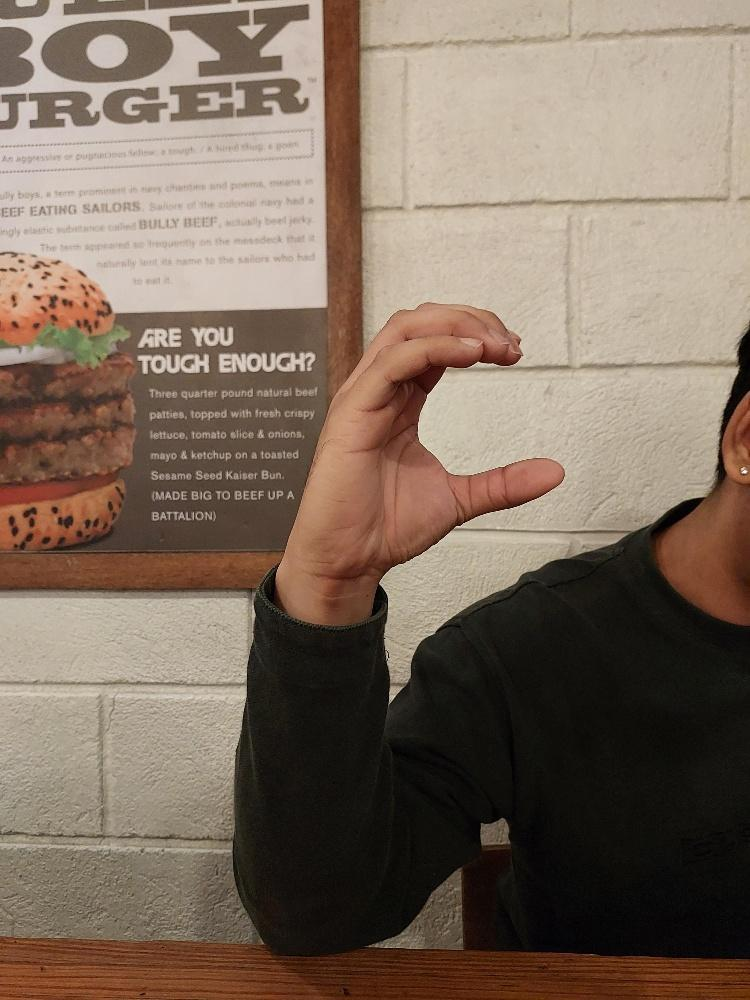c: (288, 298, 566, 580)
